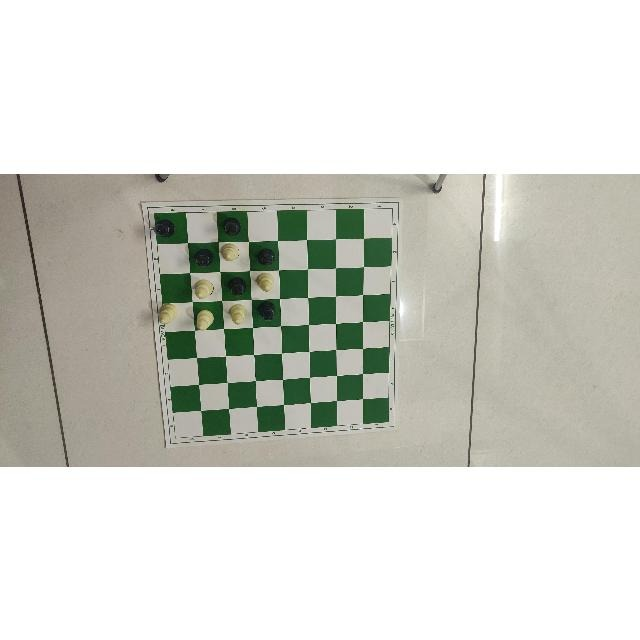black-bishop: (226, 276, 247, 296), (256, 299, 275, 321), (194, 246, 214, 266), (154, 219, 176, 237), (256, 246, 275, 265), (222, 217, 242, 235)
white-bishop: (158, 302, 179, 326), (195, 309, 215, 330), (194, 278, 214, 298), (228, 303, 247, 324), (220, 241, 239, 260), (256, 271, 274, 291)
